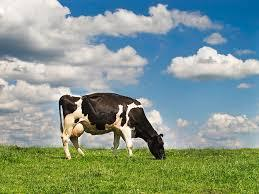cow: (58, 92, 167, 159)
